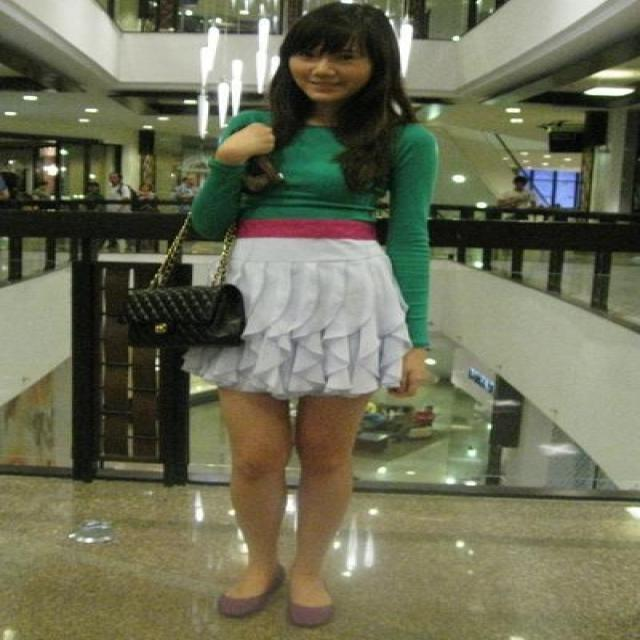bag: (110, 276, 247, 358)
jacket: (173, 122, 440, 348)
shoe: (218, 595, 264, 622)
skirt: (216, 238, 411, 392)
